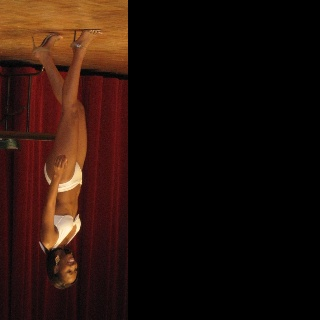without_mask: (59, 253, 79, 283)
